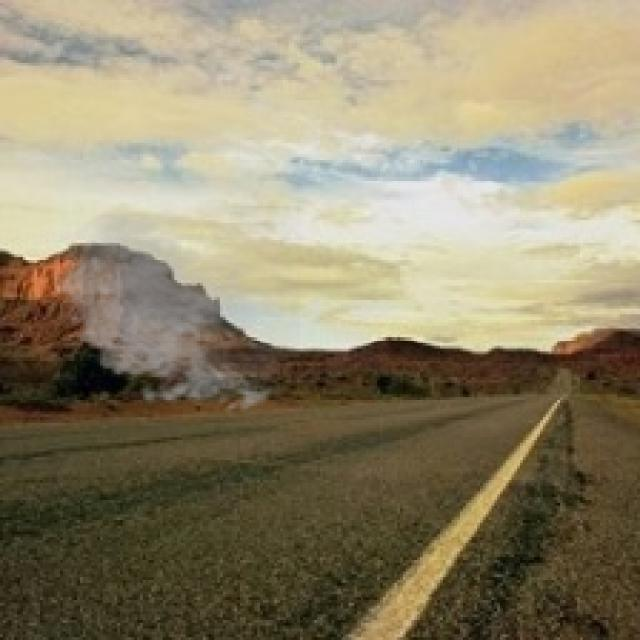smoke: (43, 206, 300, 417)
